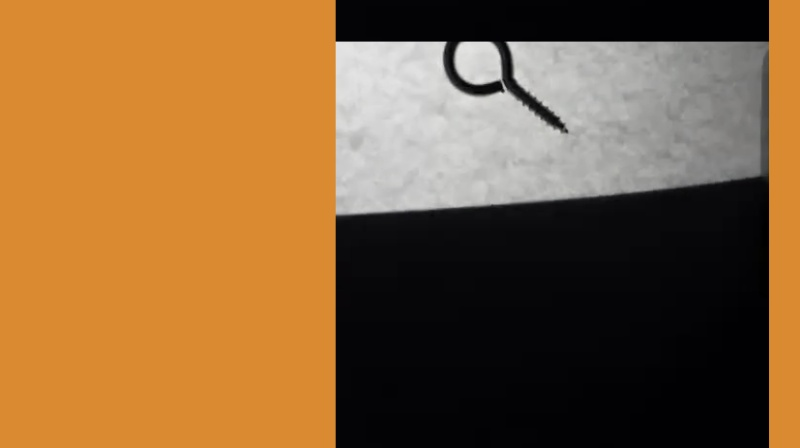O001: (438, 20, 574, 141)
